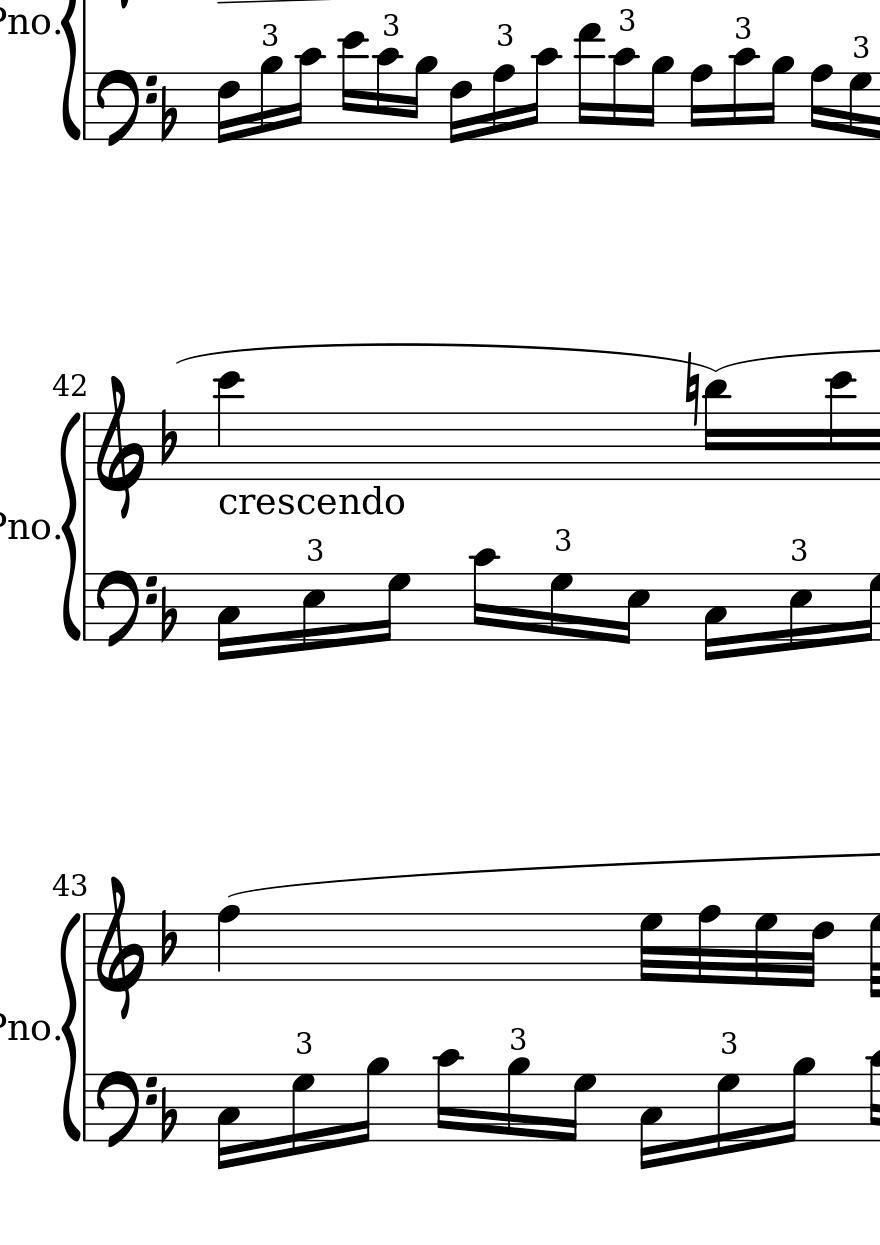16_10: (290, 46, 325, 142), (528, 47, 561, 142), (433, 1048, 462, 1144), (610, 47, 638, 142), (730, 46, 758, 141), (373, 46, 400, 141), (470, 548, 496, 643)
16_11: (700, 379, 727, 483)
16_12: (826, 370, 856, 482), (338, 30, 367, 141)
16_13: (574, 22, 603, 142)
16_3: (215, 1073, 240, 1172), (638, 1073, 663, 1171), (702, 571, 727, 663), (215, 572, 240, 663)
16_5: (617, 572, 650, 646), (300, 571, 326, 652), (787, 571, 813, 652)
16_6: (803, 911, 835, 989), (215, 70, 240, 144), (447, 71, 472, 145)
16_7: (564, 1072, 598, 1145), (377, 572, 410, 644), (714, 1070, 741, 1158), (289, 1069, 315, 1159), (752, 911, 778, 987), (547, 570, 573, 643), (847, 69, 871, 143)
16_8: (688, 63, 713, 142), (808, 63, 833, 142), (490, 62, 514, 142)
16_9: (354, 1055, 389, 1146), (781, 1055, 814, 1145), (407, 54, 437, 143), (764, 55, 794, 142), (644, 55, 673, 142), (505, 1054, 530, 1143), (257, 54, 282, 142)
2: (69, 372, 87, 399)
3: (260, 22, 280, 48), (617, 7, 636, 34), (381, 11, 400, 38), (495, 21, 514, 48), (851, 33, 870, 60), (508, 1026, 527, 1052), (734, 14, 752, 41), (306, 538, 324, 565), (554, 527, 572, 553), (70, 872, 88, 898), (790, 538, 808, 563), (720, 1030, 737, 1056), (295, 1031, 312, 1056)
32_7: (638, 911, 663, 984)
32_8: (696, 903, 720, 985)
4: (52, 872, 69, 900), (52, 372, 69, 399)
4_12: (213, 370, 243, 481)
4_8: (215, 904, 240, 982)
Brace: (61, 407, 81, 641), (61, 908, 81, 1142), (60, 1, 81, 143)
Fclef: (93, 67, 157, 151), (94, 1069, 156, 1151), (94, 568, 156, 649)
Flat: (158, 84, 179, 144), (157, 407, 178, 467), (159, 584, 180, 644), (159, 1085, 180, 1145), (158, 907, 178, 967)
Gclef: (94, 373, 145, 520), (94, 873, 144, 1020)
Natural: (683, 352, 701, 428)
Single_barline: (79, 413, 93, 480), (80, 913, 94, 980), (78, 574, 92, 639), (78, 1075, 92, 1140), (78, 74, 91, 139)
Slur: (173, 340, 715, 371)
